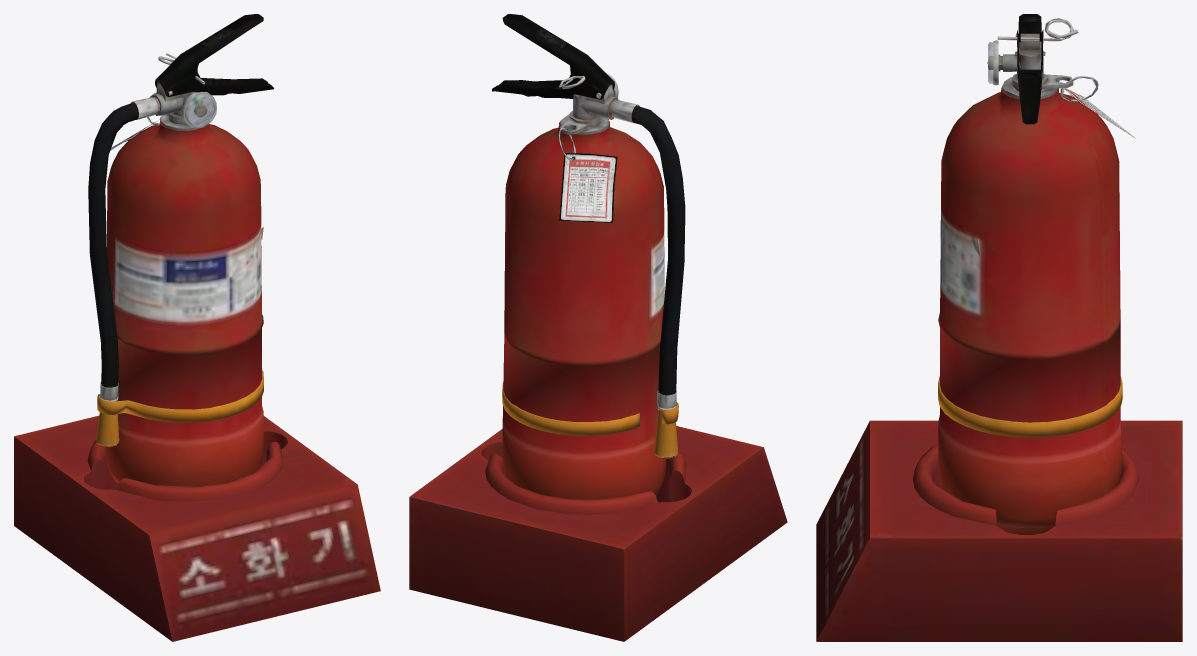
Rendered from extinguisher.glb.
3 renders of one model, left to right at view 1: azimuth 30°, elevation 25°; view 2: azimuth 150°, elevation 25°; view 3: azimuth 270°, elevation 25°, orthographic. The views are drawn at different scales.
Parts seen in each view (by area): view 1: korean_fire_extinguisher_01; view 2: korean_fire_extinguisher_01; view 3: korean_fire_extinguisher_01.
Boxes of the visible parts, bbox=[...] form: korean_fire_extinguisher_01: bbox=[14, 14, 380, 641]; korean_fire_extinguisher_01: bbox=[409, 14, 787, 641]; korean_fire_extinguisher_01: bbox=[816, 14, 1182, 641].
Size of the model in its own units: 0.279 by 0.6581 by 0.3675.
3 materials, 3 textured.
